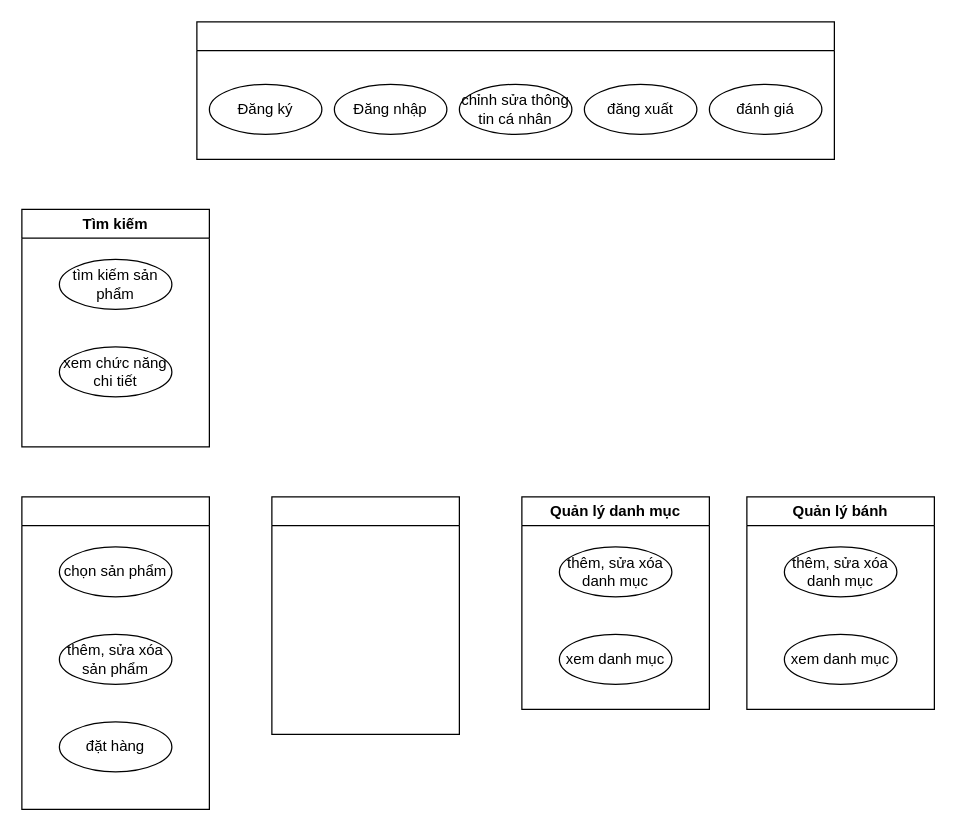
The diagram is 956 pixels wide and 831 high, and some of its shapes have lost their labels. Each missing label, with the box of its shape:
Hệ thống tài khoản: (196, 21, 834, 159)
Quản lý Giỏ hàng: (21, 496, 209, 809)
Quản lý thanh toán: (271, 496, 459, 734)
